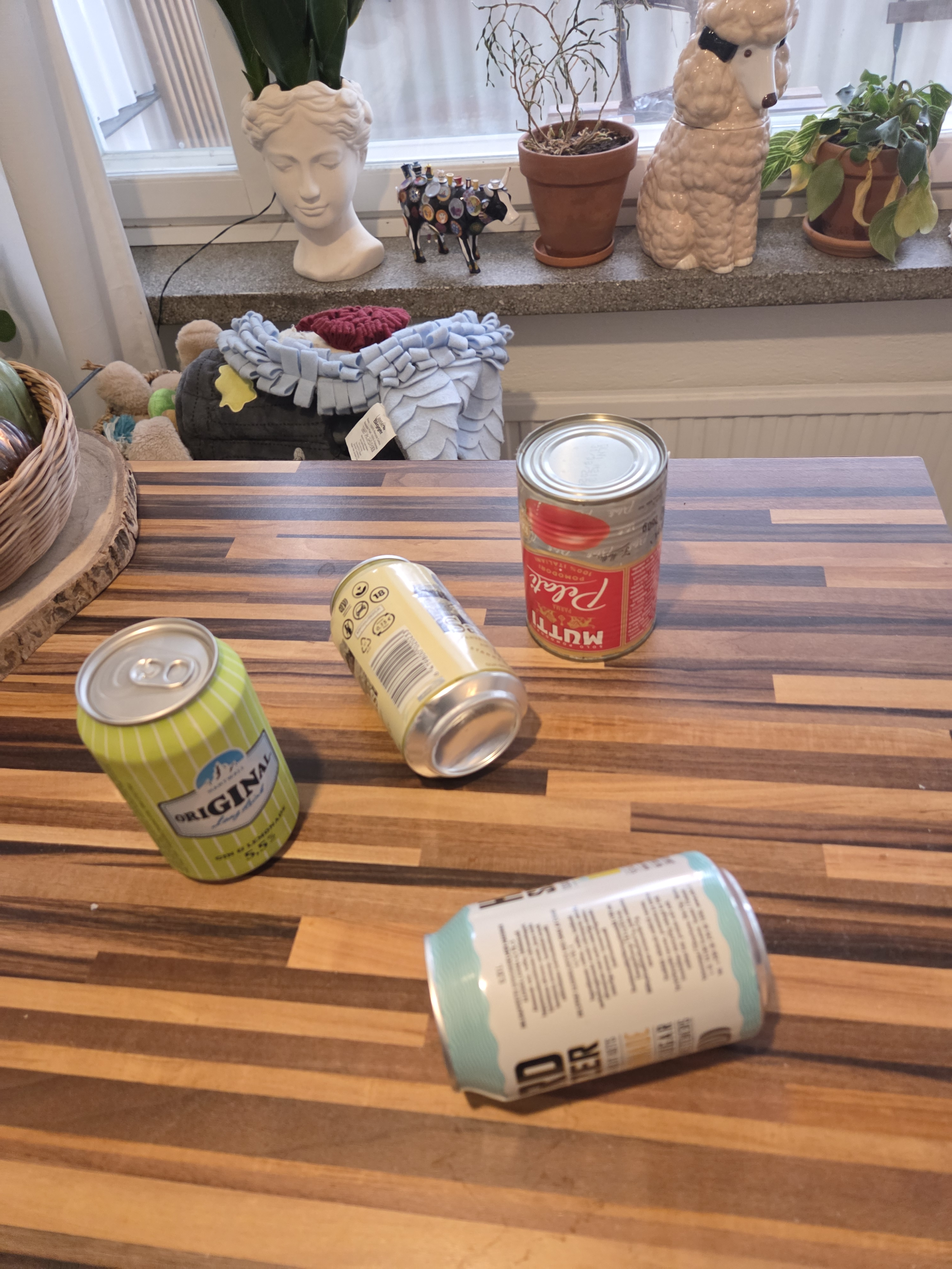Konservburk: (514, 413, 670, 662)
Pantburk: (423, 849, 770, 1103), (74, 616, 302, 883), (329, 555, 531, 779)
